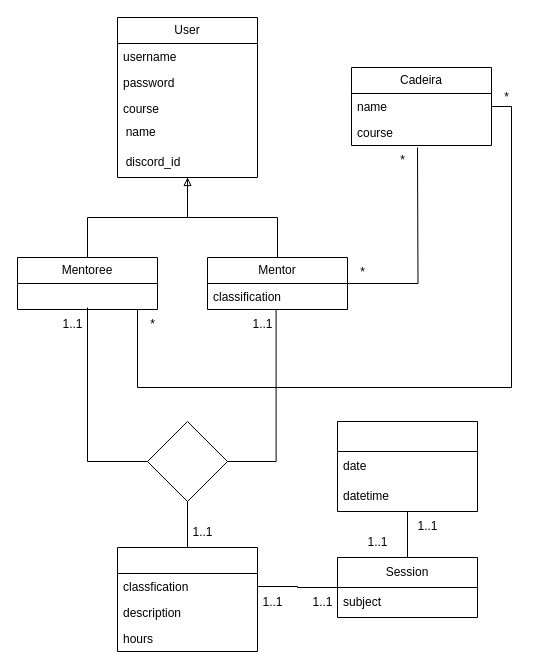
Some shapes in this 539 by 672 pixel diagram are drawn without their labels. The shapes that lost their labels are listed below. From the top down, each one's box as (x1, y1, x2, y2) in pixels, then its label:
(336, 420, 478, 512): Appointment
(116, 546, 258, 652): Review
